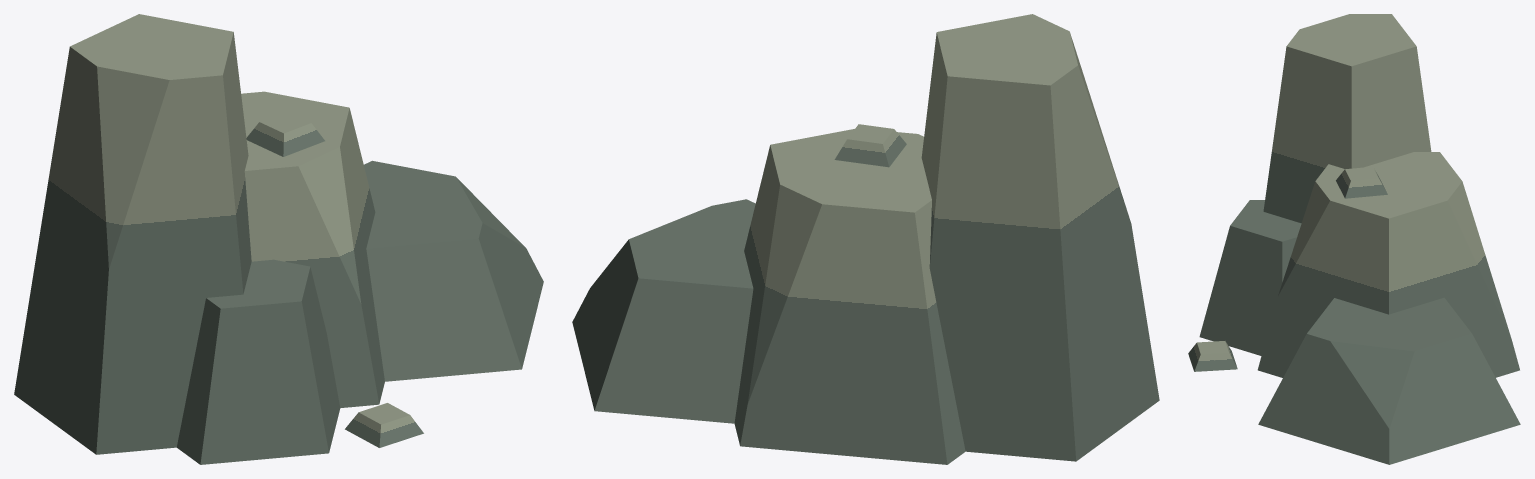
The model's file is river-stones-split-stone.glb.
The picture shows the model from 3 angles, left to right: view 1: azimuth 30°, elevation 25°; view 2: azimuth 150°, elevation 25°; view 3: azimuth 270°, elevation 25°; orthographic projection. The views are drawn at different scales.
Visible parts, largest first — view 1: river-stones-split-stone runtime mesh; view 2: river-stones-split-stone runtime mesh; view 3: river-stones-split-stone runtime mesh.
Part boxes in pixels (x1,y1,x2,y2): river-stones-split-stone runtime mesh: [14, 14, 543, 464]; river-stones-split-stone runtime mesh: [572, 14, 1159, 464]; river-stones-split-stone runtime mesh: [1188, 14, 1520, 464].
Bounding box in the file's own units: 0.3381 × 0.22 × 0.2441.
1 material, 1 textured.
